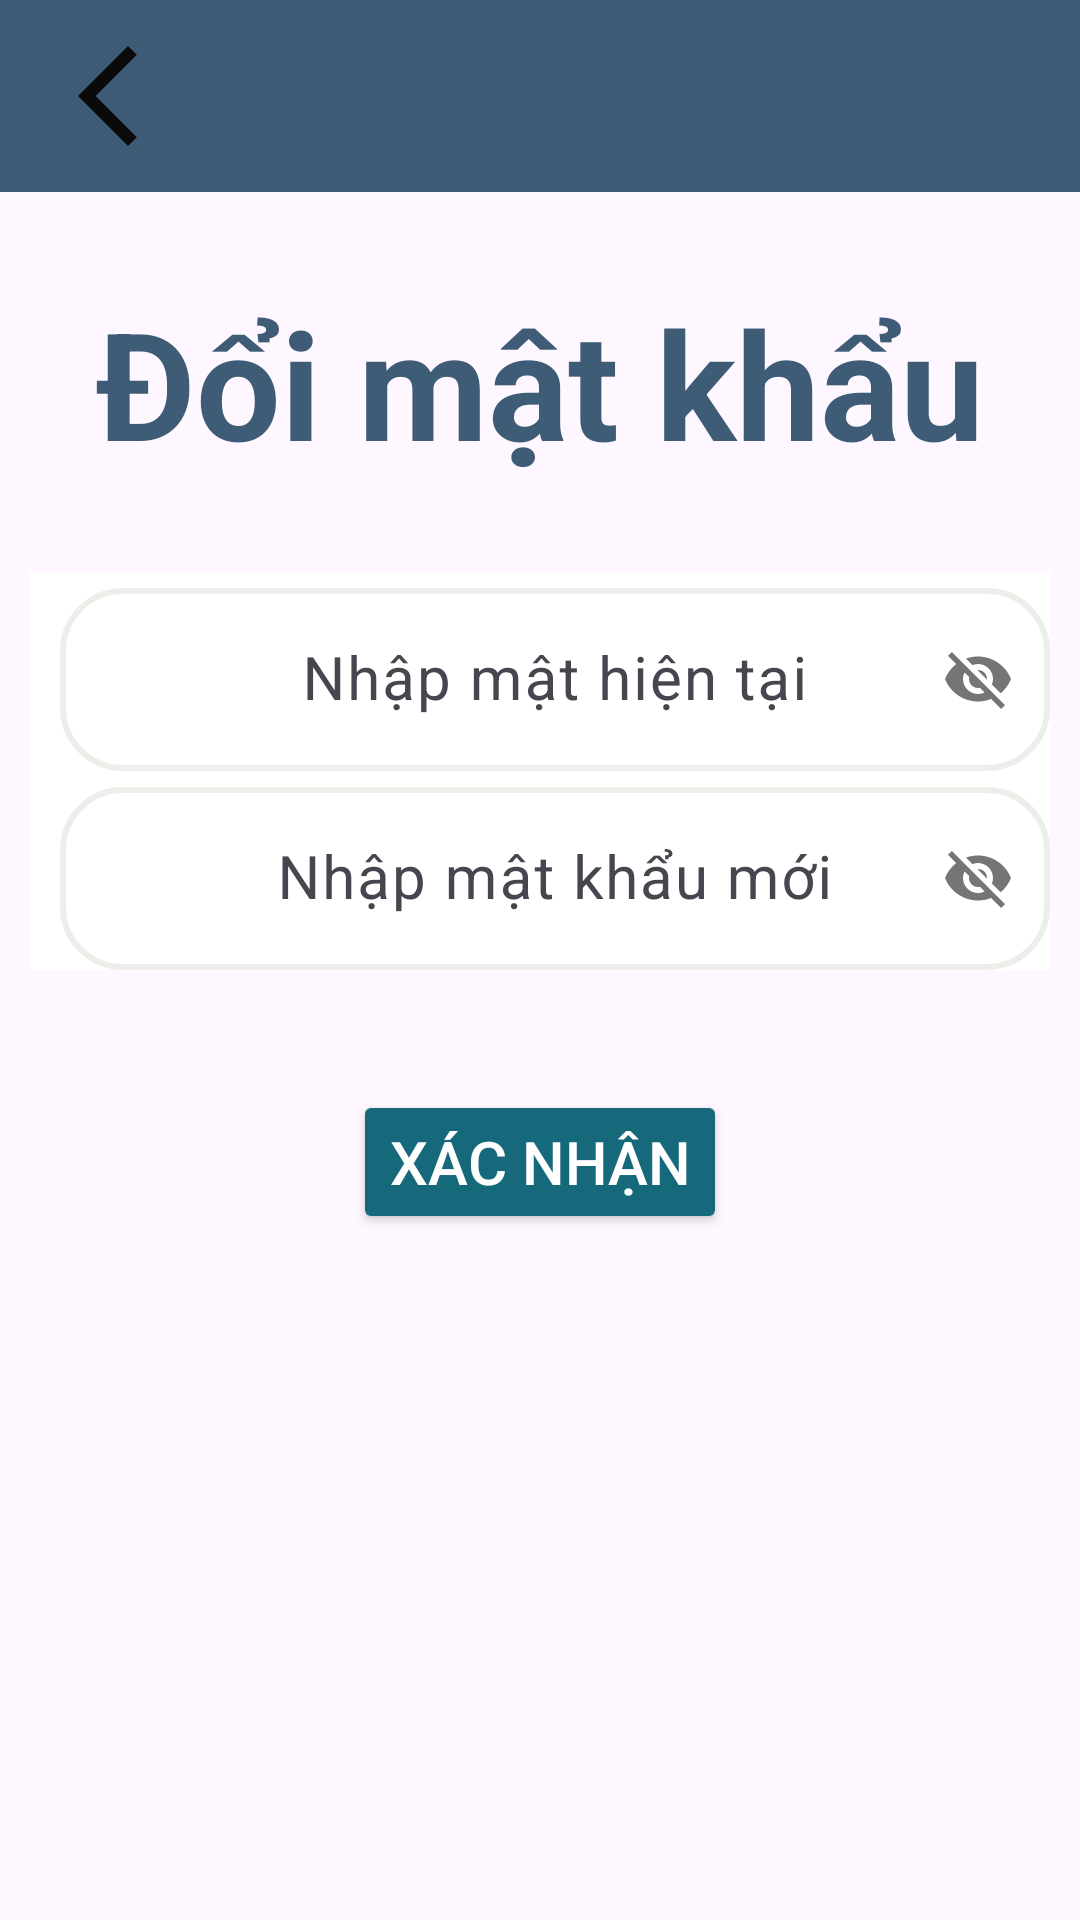

Named icons in this screenshot (1080×1920) and their centers, (x=x, y=y):
back: (x=107, y=96)
